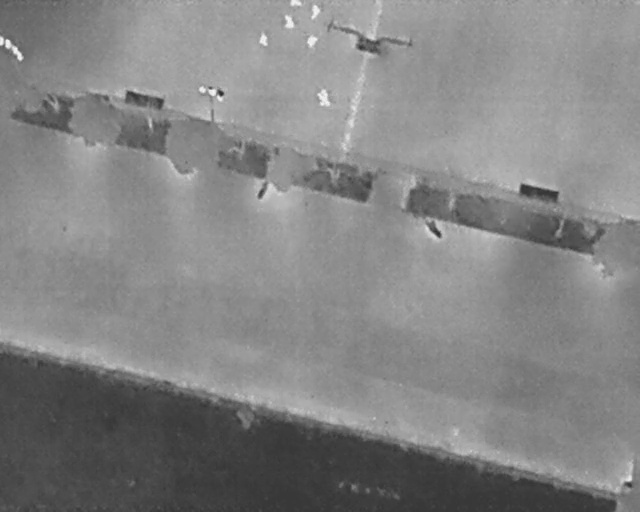Person: (316, 88, 331, 106), (283, 13, 295, 29), (307, 34, 318, 49), (311, 3, 320, 20), (258, 31, 268, 46), (290, 0, 302, 6)
